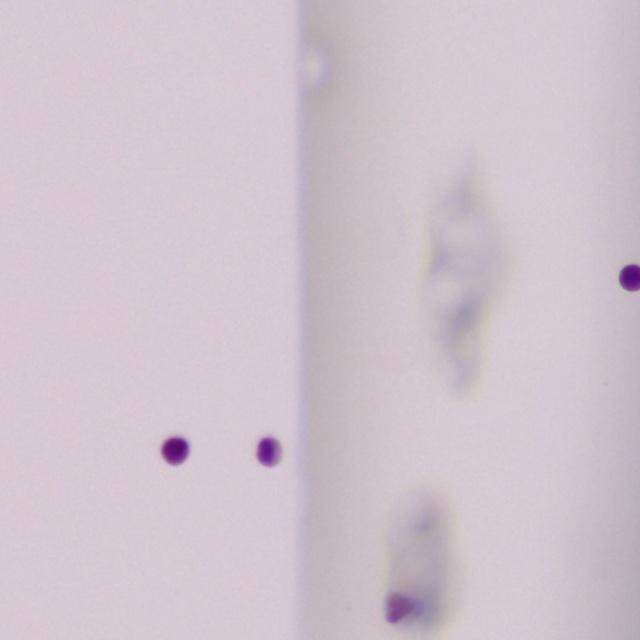viable: (162, 436, 189, 464), (256, 436, 282, 465), (618, 264, 639, 291)
